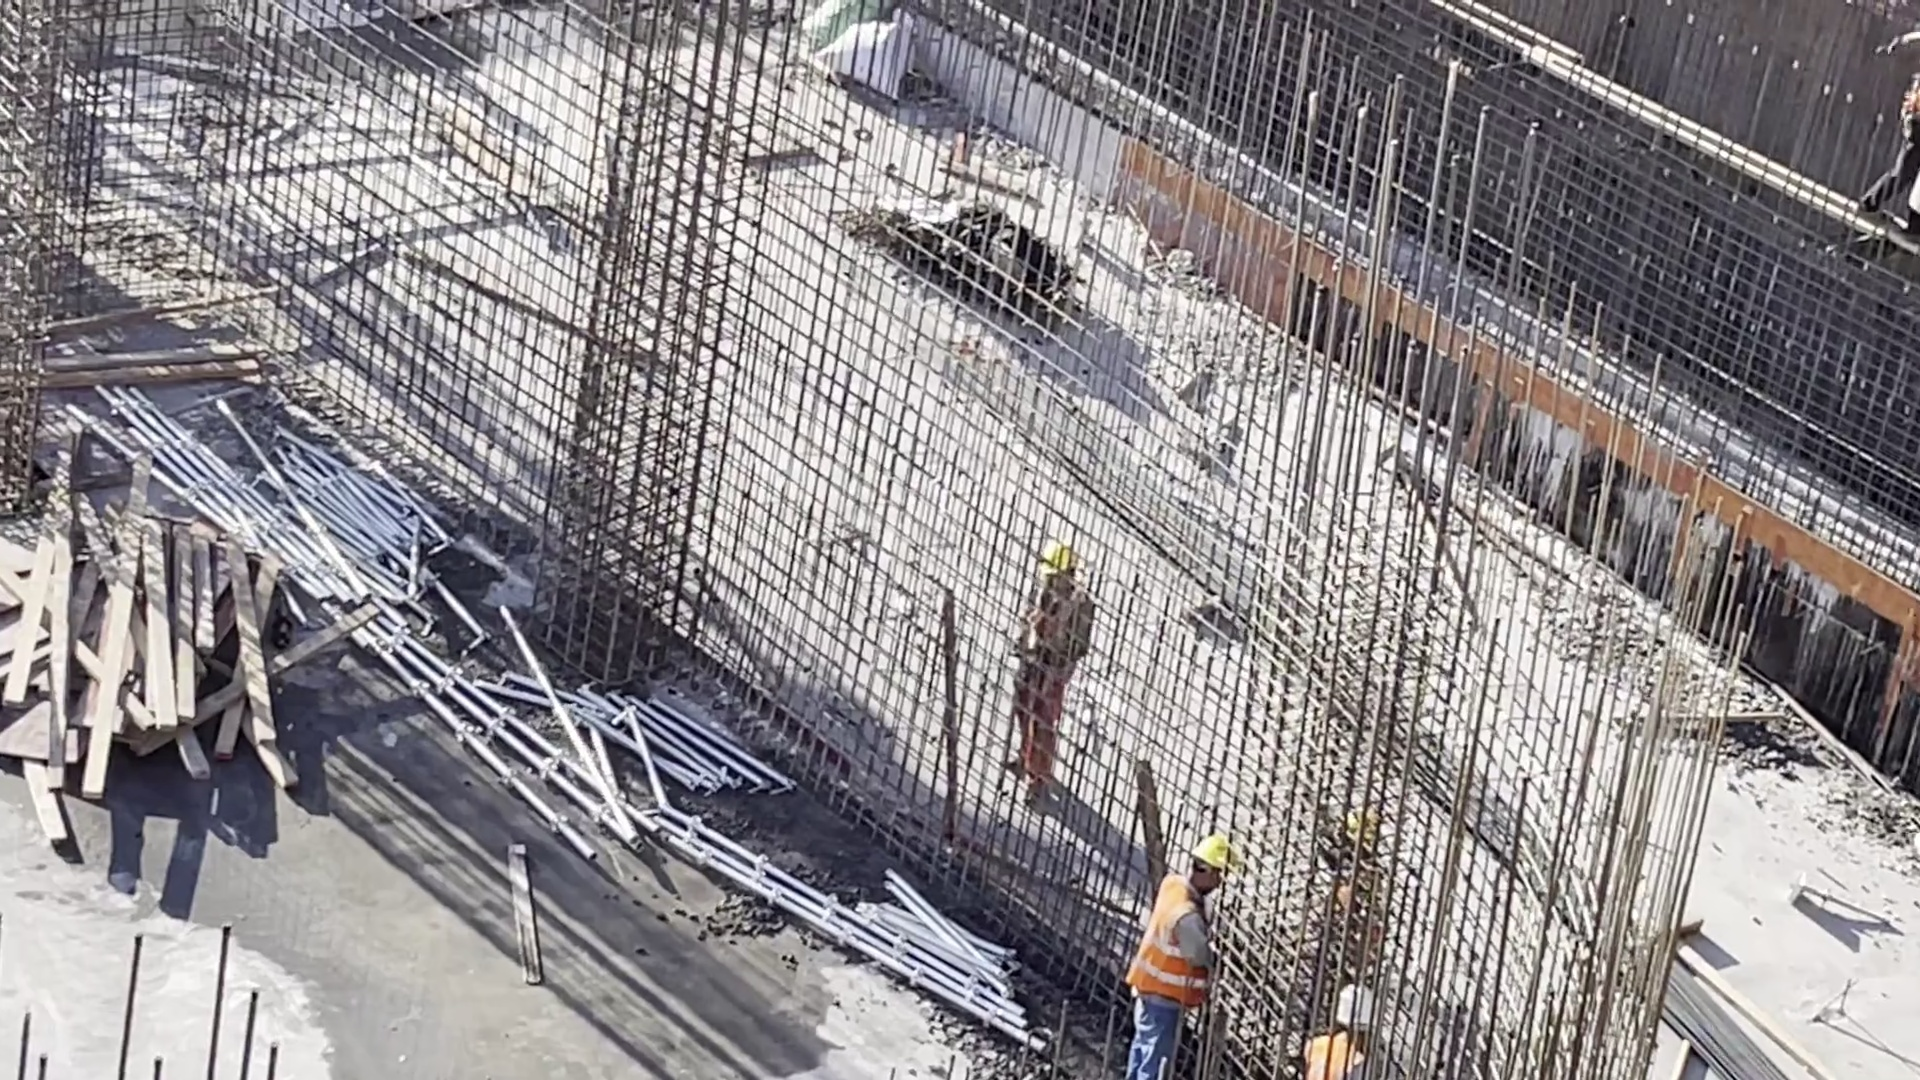helmet: (1193, 828, 1244, 874), (1338, 979, 1378, 1031), (1345, 808, 1386, 854), (1049, 543, 1081, 580)
person: (1108, 823, 1241, 1080), (1012, 545, 1088, 801), (1840, 17, 1920, 223), (1311, 797, 1400, 974), (1299, 978, 1376, 1080)
vest: (1128, 873, 1213, 1002), (1025, 593, 1084, 679), (1299, 1041, 1352, 1080)
